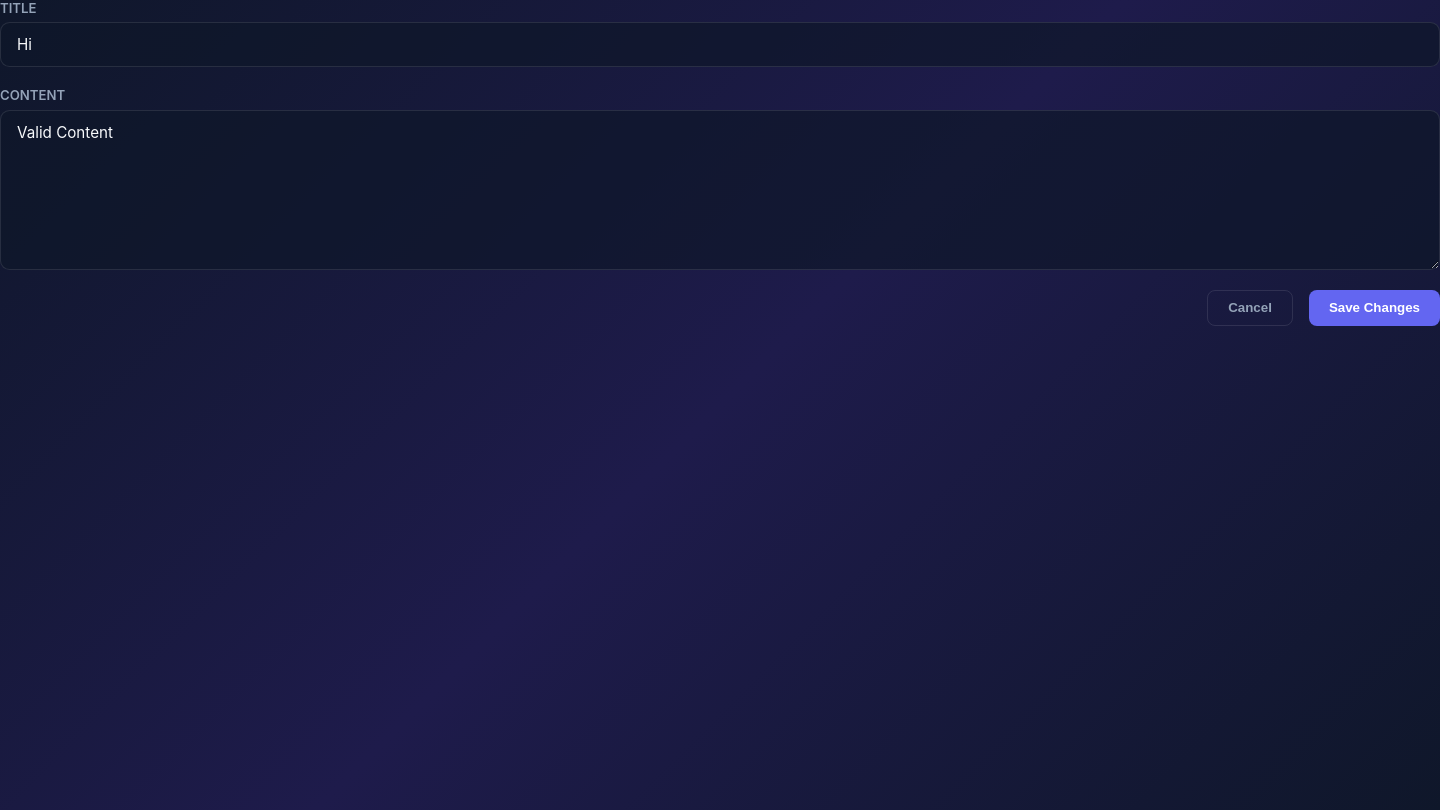
Test case: NoteEditForm Component Tests (React Testing Library) › displays error message when submitting short title (< 3 chars)
Click the button "Save Changes". click: (1374, 308)
box: [1309,290,1439,326]
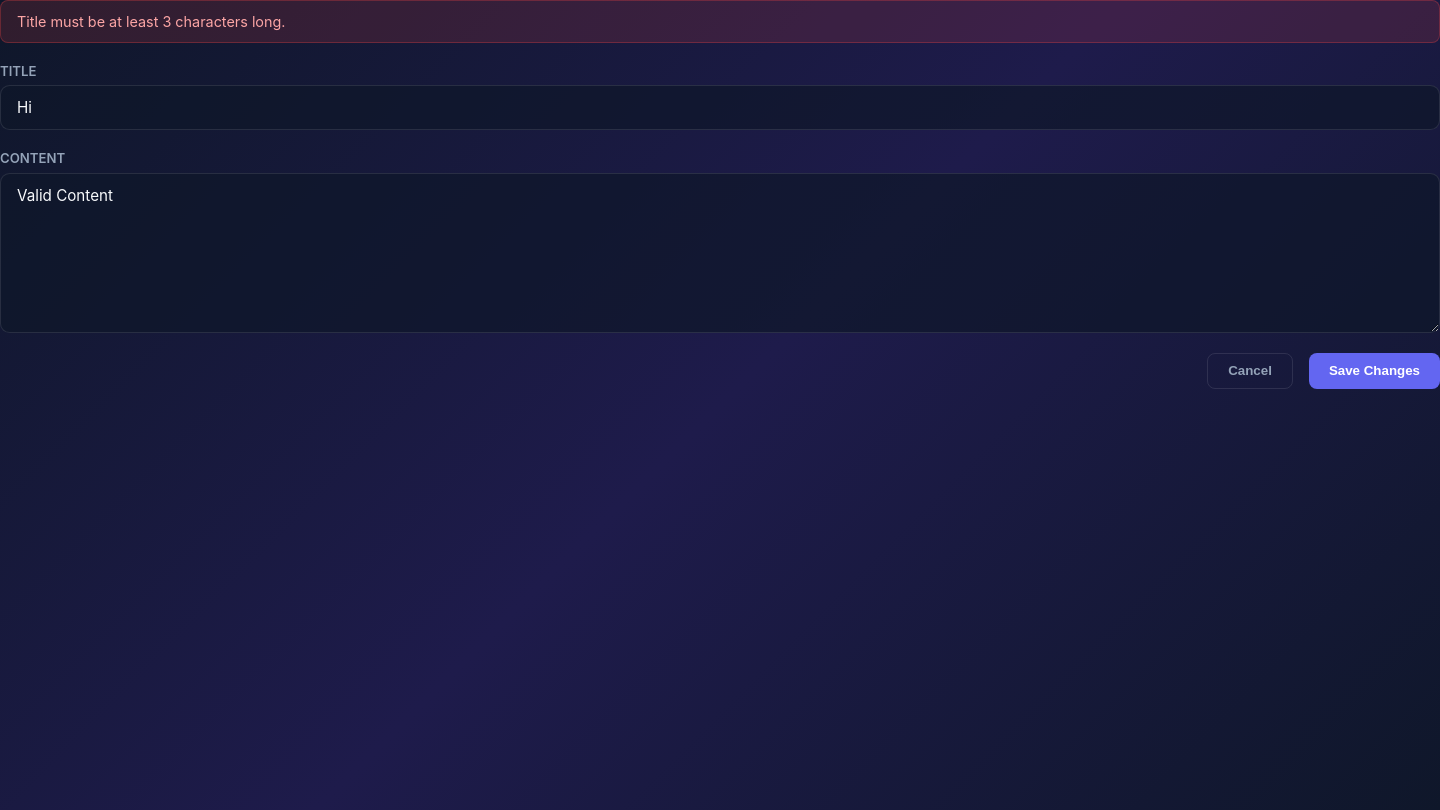
Expected: the text "Title must be at least 3 characters long." is shown, [0,0,1439,43]
